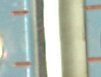border: (9, 9, 31, 17), (12, 60, 33, 67), (83, 4, 101, 12), (85, 56, 101, 63)
